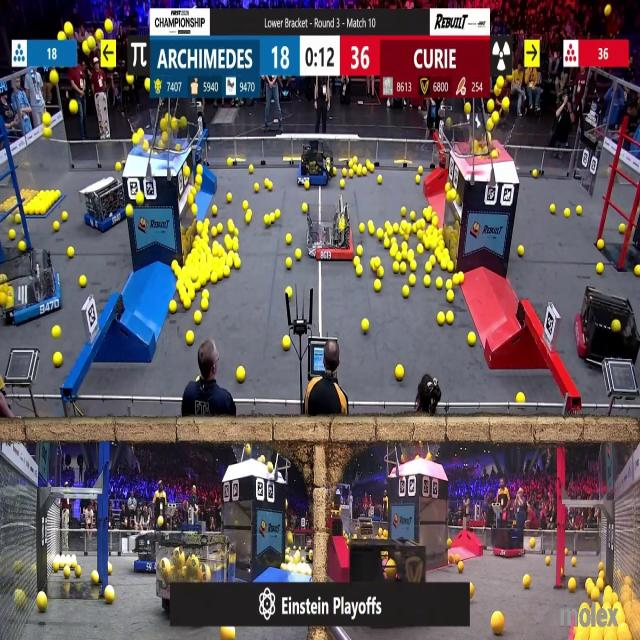ball_airborne: (65, 24, 74, 37), (501, 98, 509, 112), (49, 70, 57, 84), (136, 191, 144, 205), (70, 101, 78, 114), (105, 20, 113, 33), (43, 112, 50, 126), (487, 100, 494, 112), (180, 116, 187, 128), (82, 40, 88, 54), (496, 76, 504, 86), (194, 165, 202, 175), (144, 78, 150, 91), (142, 140, 149, 151), (161, 118, 168, 129), (172, 118, 179, 129), (493, 87, 500, 98), (245, 446, 252, 457), (90, 37, 96, 49), (492, 111, 499, 121), (133, 134, 140, 144), (163, 132, 169, 143), (488, 118, 494, 129), (97, 30, 103, 41), (159, 517, 165, 528), (446, 118, 453, 127), (464, 104, 470, 114), (44, 128, 50, 138), (183, 167, 189, 177), (128, 74, 134, 84), (138, 129, 144, 138), (195, 175, 201, 184), (492, 150, 498, 158), (259, 456, 265, 463), (165, 112, 170, 120), (176, 144, 180, 152)
ball_ground: (491, 613, 504, 636), (37, 593, 47, 613), (104, 587, 114, 604), (222, 627, 234, 639), (395, 364, 403, 380), (523, 574, 531, 588), (238, 366, 245, 381), (361, 319, 369, 332), (55, 353, 63, 366), (467, 334, 475, 347), (568, 580, 576, 593), (283, 337, 290, 351), (186, 332, 193, 346), (202, 300, 210, 312), (446, 312, 454, 324), (170, 302, 178, 314), (54, 326, 62, 338), (172, 262, 180, 274), (400, 220, 408, 232), (592, 589, 600, 601), (179, 286, 187, 298), (193, 311, 200, 324), (518, 392, 526, 403), (596, 264, 604, 275), (194, 221, 202, 232), (68, 246, 75, 258), (435, 278, 442, 290), (375, 280, 382, 292), (93, 570, 100, 582), (243, 213, 250, 225), (439, 313, 446, 325), (182, 300, 190, 310), (367, 221, 373, 234), (225, 237, 231, 250), (79, 276, 86, 287), (235, 260, 242, 271), (355, 267, 362, 278), (410, 275, 417, 286), (399, 264, 406, 275), (370, 256, 377, 267), (127, 205, 134, 216), (451, 273, 458, 284), (402, 285, 408, 297), (424, 276, 430, 288), (448, 290, 454, 302), (202, 289, 210, 298), (211, 272, 217, 284), (227, 220, 233, 232), (233, 240, 239, 252), (620, 223, 627, 233), (411, 263, 418, 273), (597, 240, 604, 250), (392, 264, 399, 274), (378, 230, 385, 240), (446, 280, 453, 290), (211, 228, 218, 238), (389, 247, 396, 257), (395, 251, 402, 261), (187, 192, 194, 202), (76, 566, 82, 577), (294, 249, 300, 260), (223, 268, 229, 279), (286, 257, 292, 268), (266, 214, 272, 225), (458, 273, 464, 284), (378, 268, 384, 279), (432, 216, 438, 227), (225, 256, 232, 265), (18, 242, 24, 252), (635, 266, 640, 278), (564, 208, 570, 218), (518, 246, 524, 256), (8, 231, 14, 241), (356, 246, 362, 256), (448, 263, 454, 273), (276, 209, 282, 219), (286, 235, 292, 245), (55, 220, 61, 230), (286, 287, 292, 297), (384, 239, 390, 249), (190, 205, 196, 215), (217, 222, 223, 232), (64, 567, 70, 577), (442, 262, 448, 272), (409, 250, 415, 260), (356, 164, 362, 174), (429, 254, 435, 264), (412, 222, 418, 232), (424, 208, 430, 218), (194, 280, 200, 290), (468, 585, 473, 597), (0, 378, 4, 392), (575, 206, 581, 215), (212, 206, 218, 215), (426, 265, 432, 274), (340, 182, 346, 191), (354, 256, 360, 265), (115, 163, 121, 172), (550, 205, 556, 214), (401, 242, 407, 251), (418, 245, 424, 254), (303, 204, 309, 213), (226, 159, 232, 168), (390, 238, 396, 247), (367, 165, 373, 174), (458, 562, 463, 572), (226, 191, 231, 201), (108, 564, 113, 574), (359, 222, 364, 232), (530, 537, 535, 547), (411, 211, 416, 221), (269, 462, 274, 472), (343, 166, 348, 176), (265, 178, 270, 188), (243, 202, 249, 210), (532, 170, 538, 178), (544, 557, 550, 565), (348, 170, 354, 178), (62, 212, 68, 220), (385, 221, 391, 229), (212, 242, 218, 250), (234, 230, 240, 238), (402, 234, 408, 242), (393, 223, 398, 232), (254, 183, 259, 192), (14, 214, 19, 223), (269, 182, 274, 190), (400, 208, 405, 216), (571, 558, 576, 566), (418, 232, 423, 240), (205, 218, 210, 226), (448, 538, 452, 547), (416, 176, 421, 183), (418, 168, 423, 175), (331, 169, 336, 176), (378, 176, 382, 184), (249, 166, 253, 174), (362, 168, 366, 176), (564, 550, 568, 558), (456, 554, 460, 562), (306, 182, 310, 189), (561, 568, 564, 575)
goal: (460, 119, 518, 159)
robot_blue: (0, 254, 63, 328), (82, 176, 127, 234), (298, 141, 334, 188), (133, 532, 159, 574)
robot_red: (575, 292, 637, 384), (306, 214, 352, 261), (492, 520, 526, 556)
